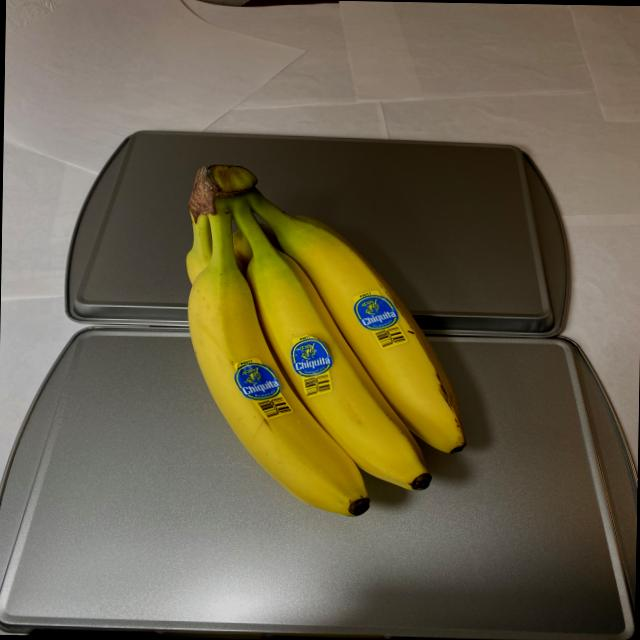banana: (171, 160, 472, 526)
